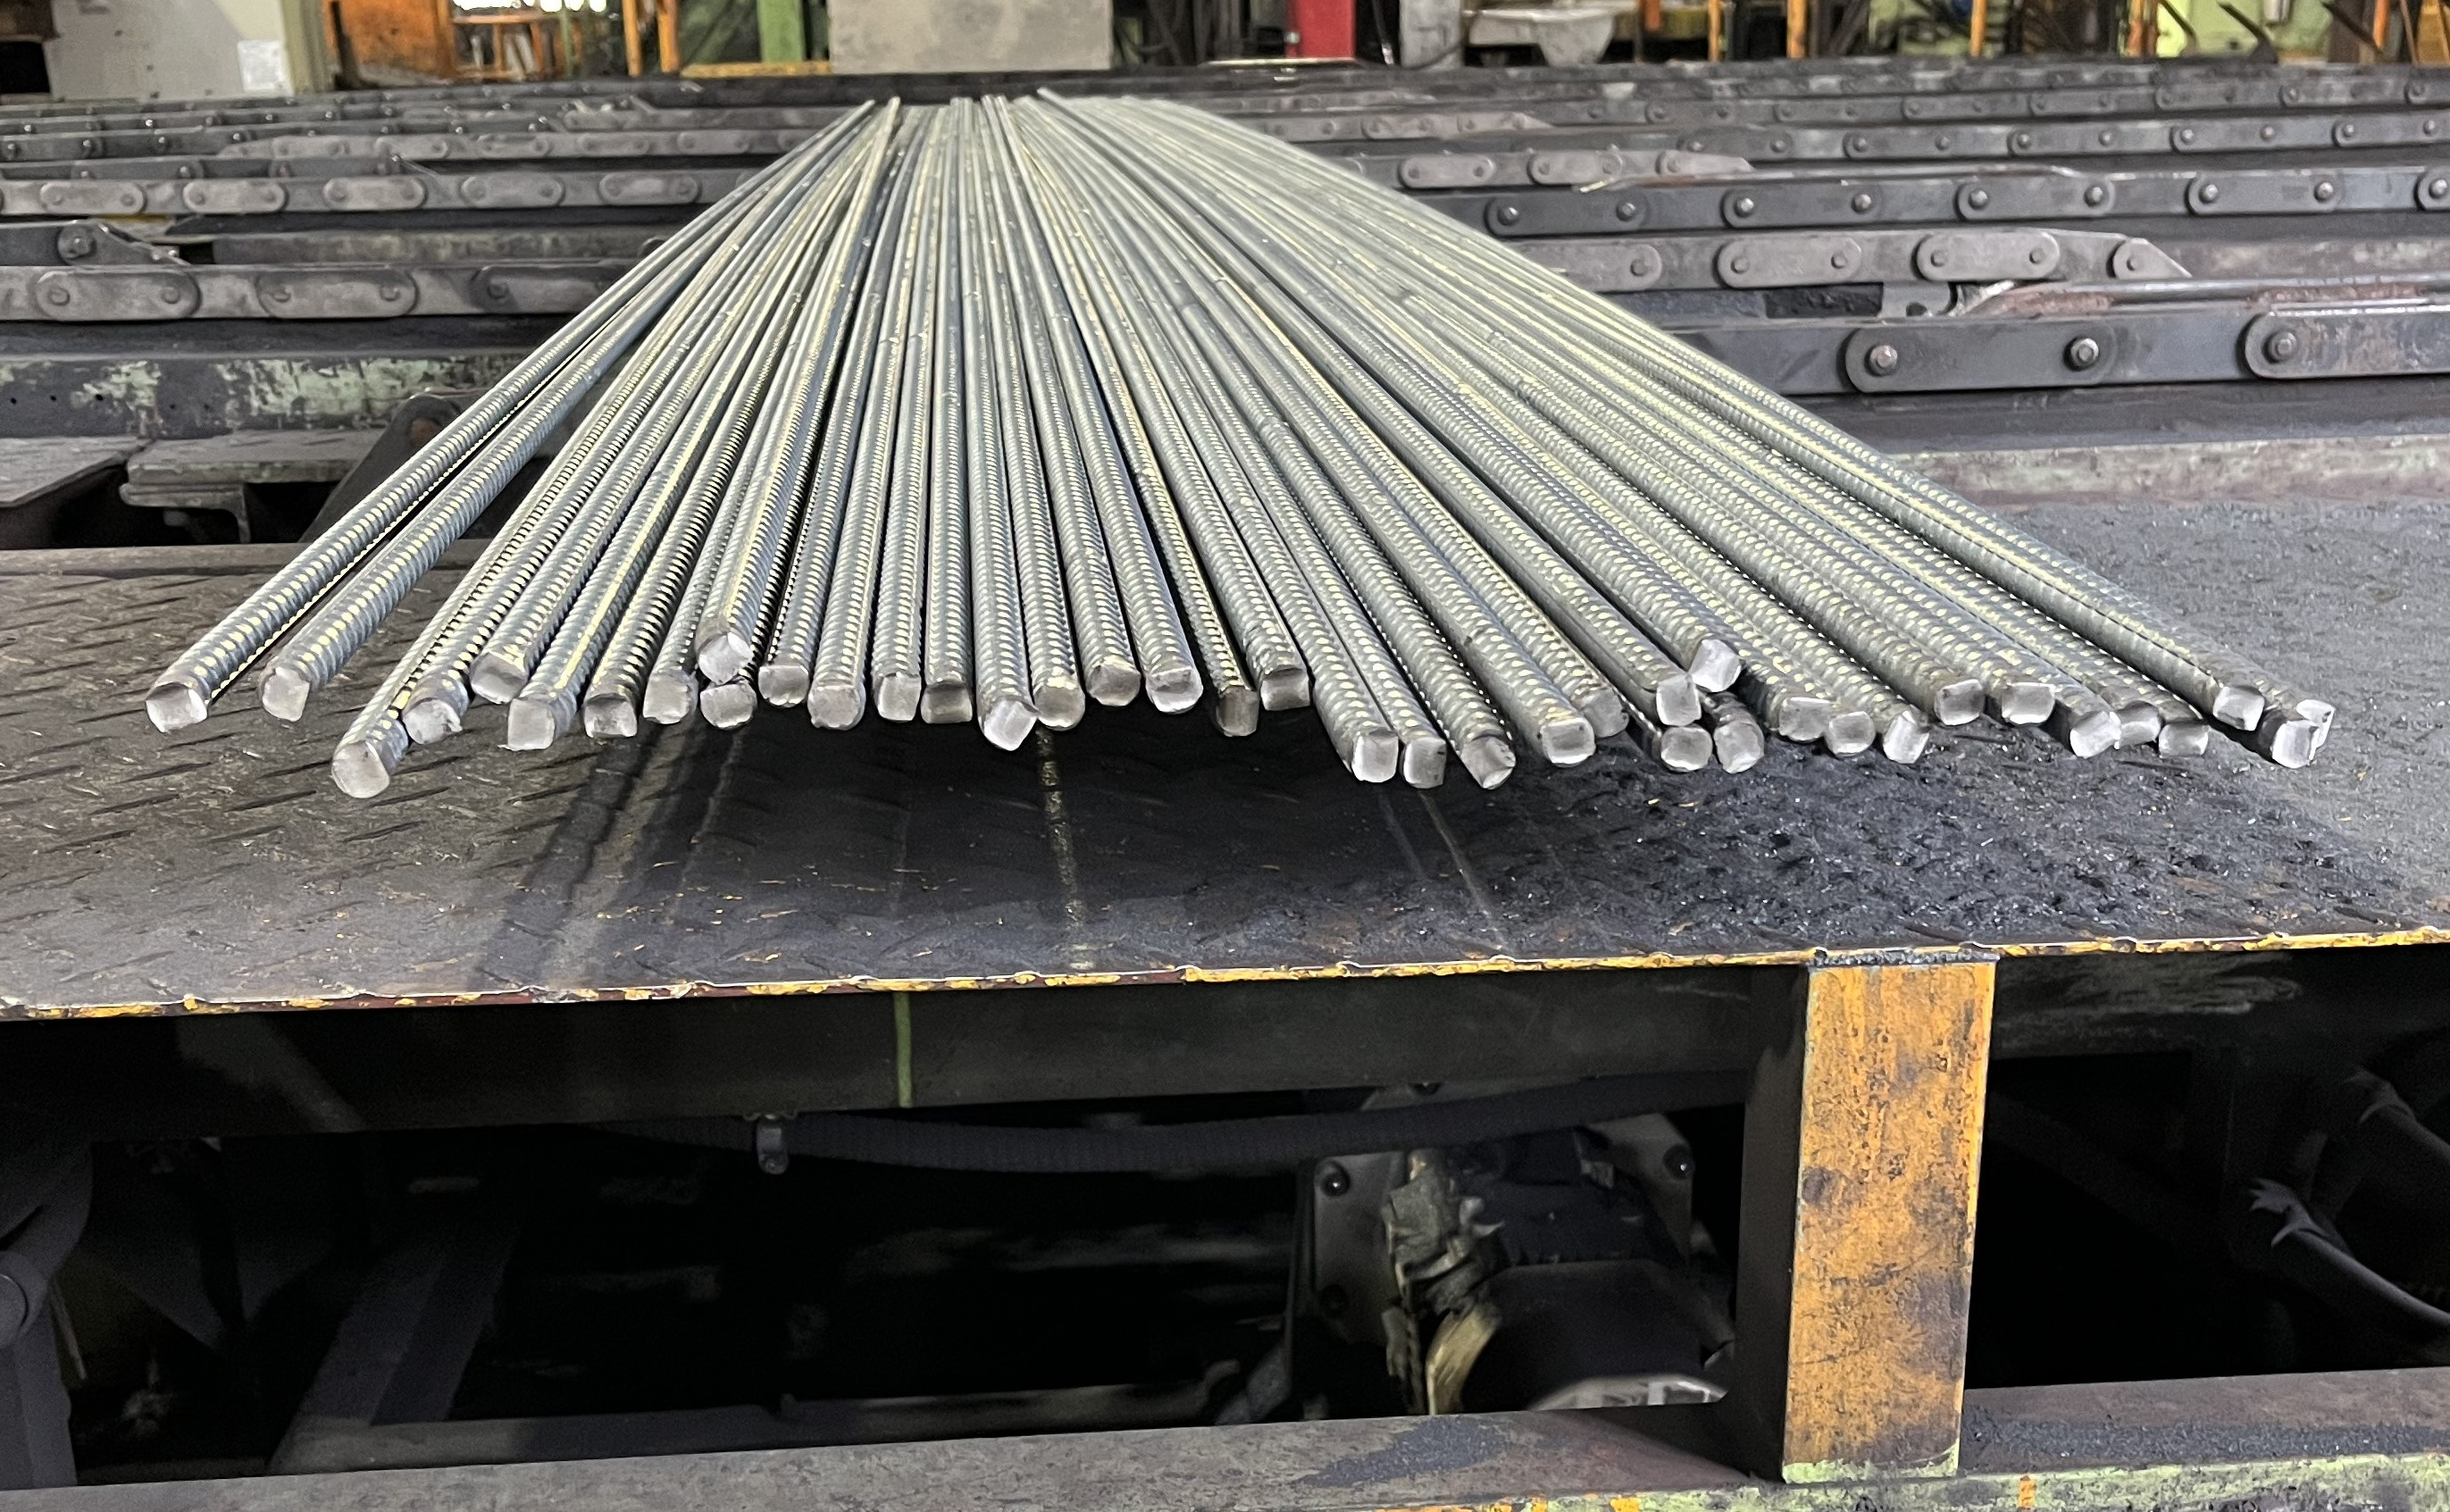rod: (327, 738, 394, 800), (1458, 731, 1519, 793), (142, 681, 208, 735), (252, 663, 311, 721), (467, 653, 530, 707), (978, 695, 1036, 752), (696, 630, 758, 684), (1346, 726, 1402, 784), (640, 665, 693, 726), (401, 695, 462, 745), (1713, 719, 1767, 775), (2067, 709, 2124, 761), (1536, 717, 1596, 768), (579, 693, 640, 742), (1144, 667, 1206, 716), (1687, 640, 1743, 693), (1655, 724, 1713, 775), (504, 696, 556, 751), (1578, 688, 1633, 740), (2268, 717, 2322, 770), (1211, 682, 1260, 740), (1881, 707, 1930, 765), (1034, 681, 1088, 731), (1398, 737, 1449, 791), (1822, 709, 1878, 758), (2210, 682, 2266, 731), (696, 684, 758, 728), (1932, 677, 1984, 728), (756, 663, 812, 710), (920, 677, 976, 724), (1087, 660, 1143, 707), (807, 684, 864, 730), (1998, 681, 2056, 726), (1654, 674, 1703, 726), (1778, 696, 1834, 742), (875, 670, 922, 723), (1260, 665, 1311, 712), (2156, 717, 2212, 759), (2119, 698, 2163, 751), (2294, 695, 2338, 747)
